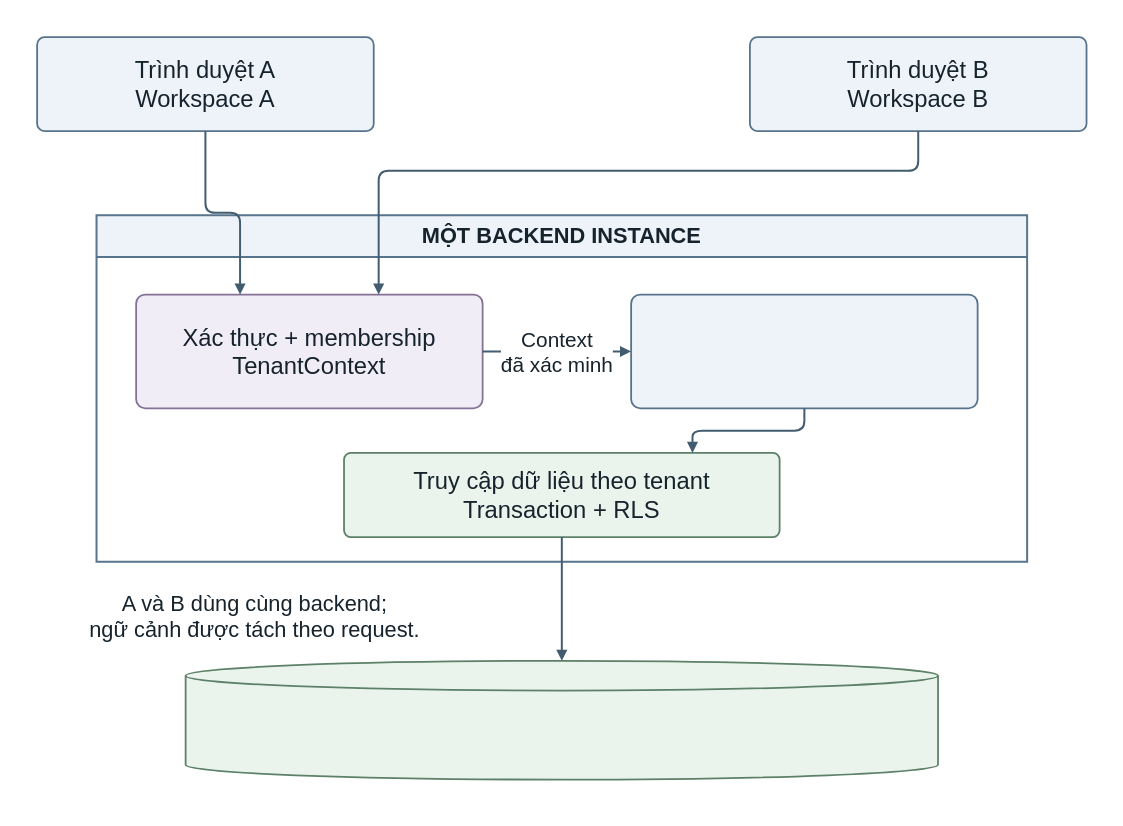
Image size: 1123x826. Some labels were removed from this diagram. Here are the shapes that lost their labels. From the top down, the centre of each, then its label:
the point at 804,351: Nghiệp vụ Kanban Áp dụng metadata
the point at 561,719: PostgreSQL dùng chung Tenant + membership + metadata + dữ liệu Kanban
